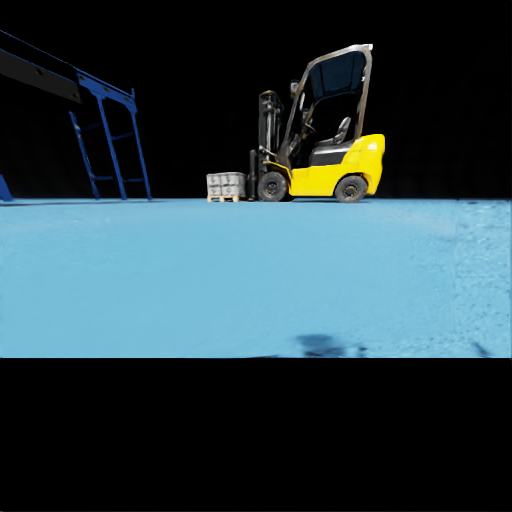transportation_area: (221, 184, 248, 194)
